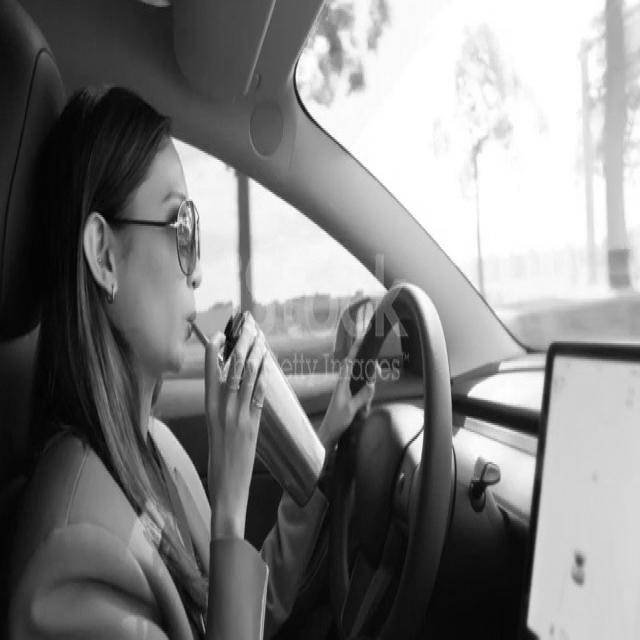Drinking: (62, 126, 336, 532)
